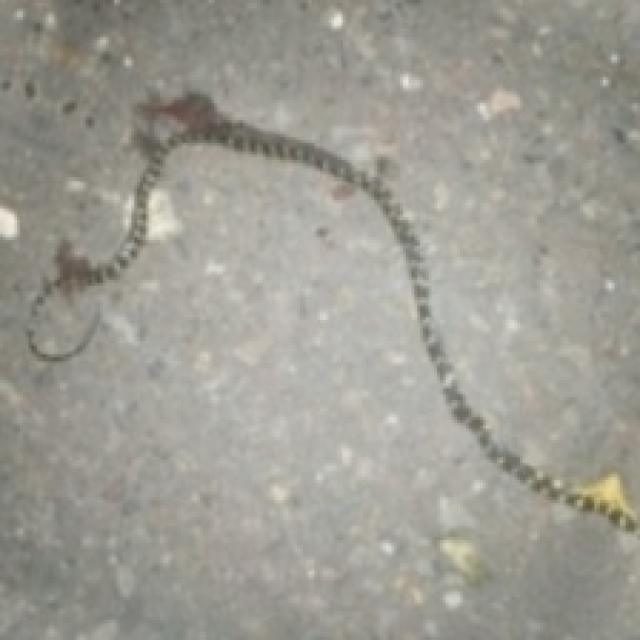mangrove cat snake: (26, 94, 637, 531)
